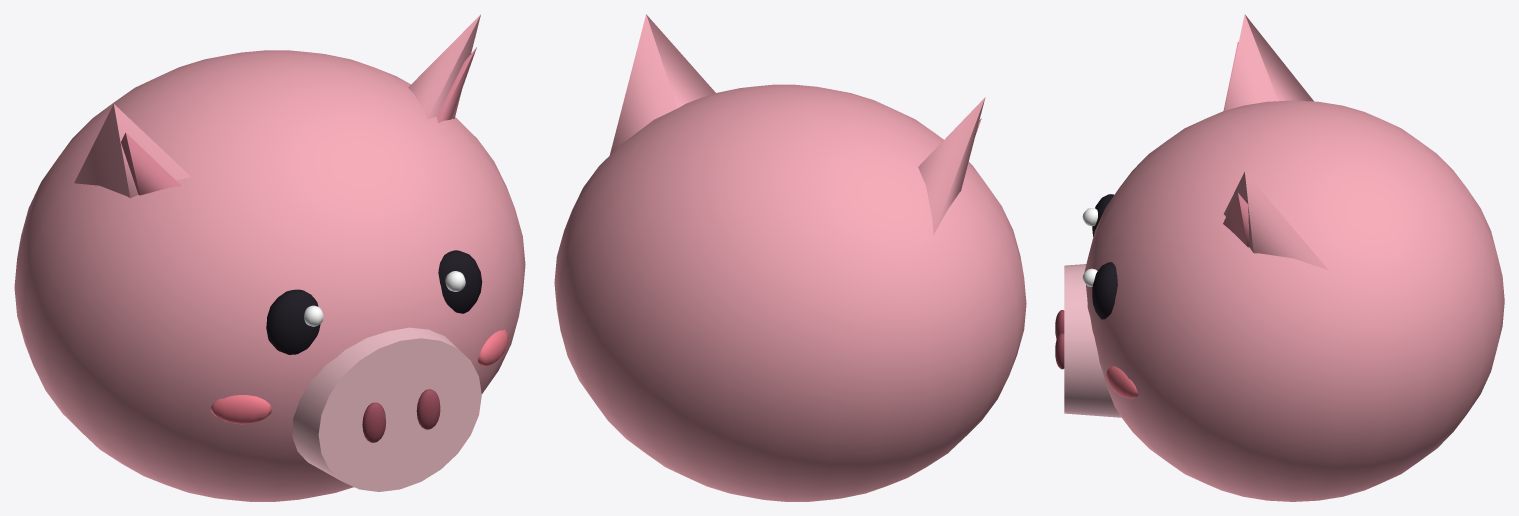
The model's file is head_pig.glb.
3 renders of one model, left to right at view 1: azimuth 30°, elevation 25°; view 2: azimuth 150°, elevation 25°; view 3: azimuth 270°, elevation 25°, orthographic. The views are drawn at different scales.
Bounding box in the file's own units: 1.08 × 1 × 1.06.
